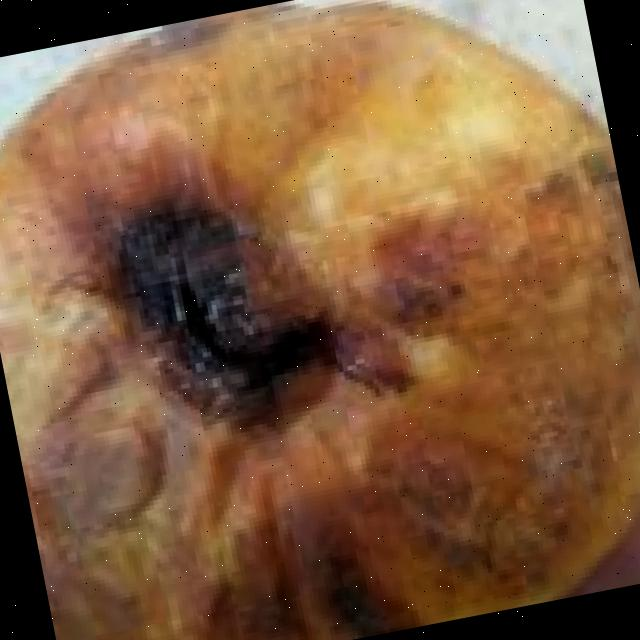Bad_Guava 0 day: (0, 4, 640, 640)
